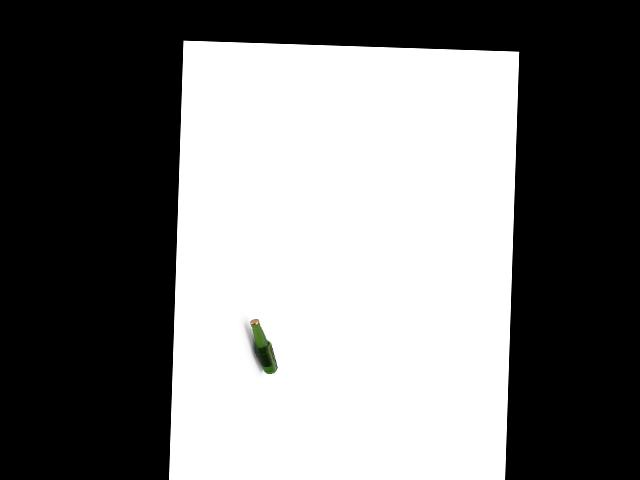beer: (248, 318, 278, 374)
